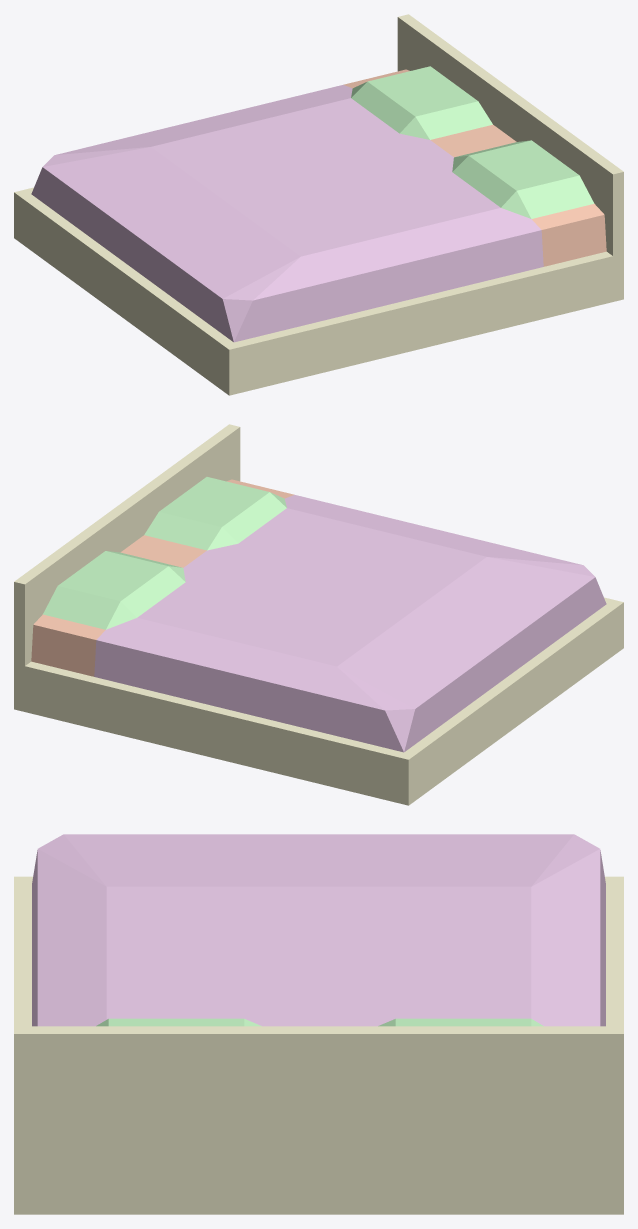
Rendered from Bed_Double.glb.
3 renders of one model, top to bottom at view 1: azimuth 30°, elevation 25°; view 2: azimuth 150°, elevation 25°; view 3: azimuth 270°, elevation 25°, orthographic. The views are drawn at different scales.
Parts seen in each view (by area): view 1: Bed Double; view 2: Bed Double; view 3: Bed Double.
Part boxes in pixels (x1,y1,x2,y2): Bed Double: [14, 14, 623, 395]; Bed Double: [14, 424, 623, 805]; Bed Double: [14, 834, 623, 1214].
Bounding box in the file's own units: 1.8 × 0.556 × 1.7.
